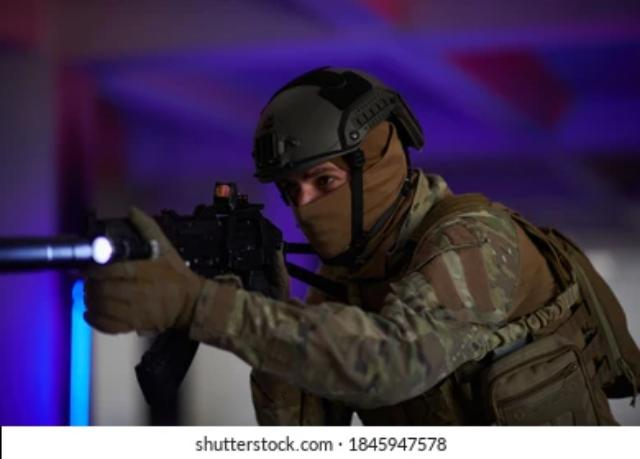other: (254, 69, 574, 414)
